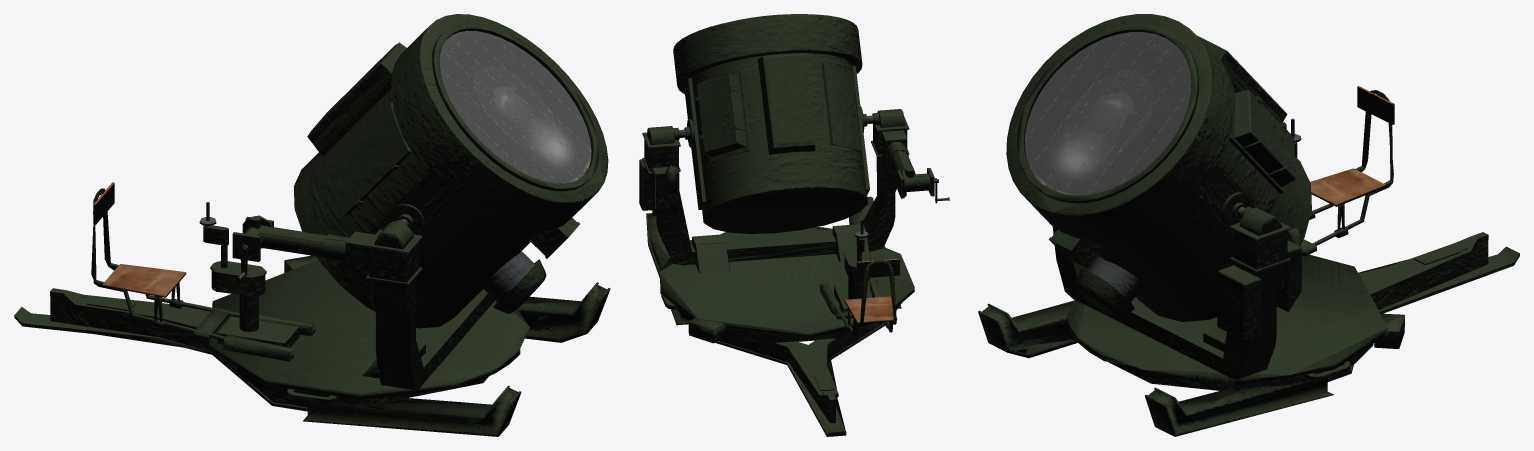
The model's file is searchlight.fbx.
3 renders of one model, left to right at view 1: azimuth 30°, elevation 25°; view 2: azimuth 150°, elevation 25°; view 3: azimuth 270°, elevation 25°, orthographic. The views are drawn at different scales.
Parts seen in each view (by area): view 1: Lightcase; view 2: Lightcase; view 3: Lightcase.
Part boxes in pixels (left/top/right/bottom): Lightcase: left=14, top=14, right=610, bottom=436; Lightcase: left=639, top=14, right=949, bottom=436; Lightcase: left=978, top=14, right=1519, bottom=436.
Size of the model in its own units: 96.74 by 77.65 by 107.
